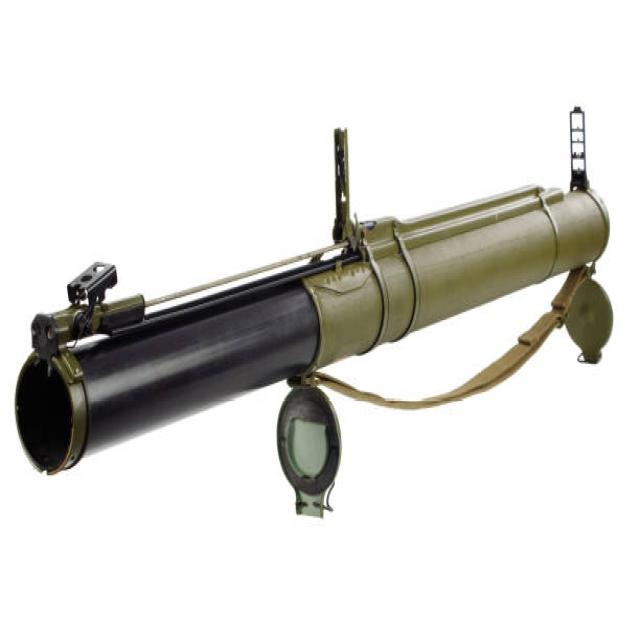bazooka: (14, 93, 621, 524)
